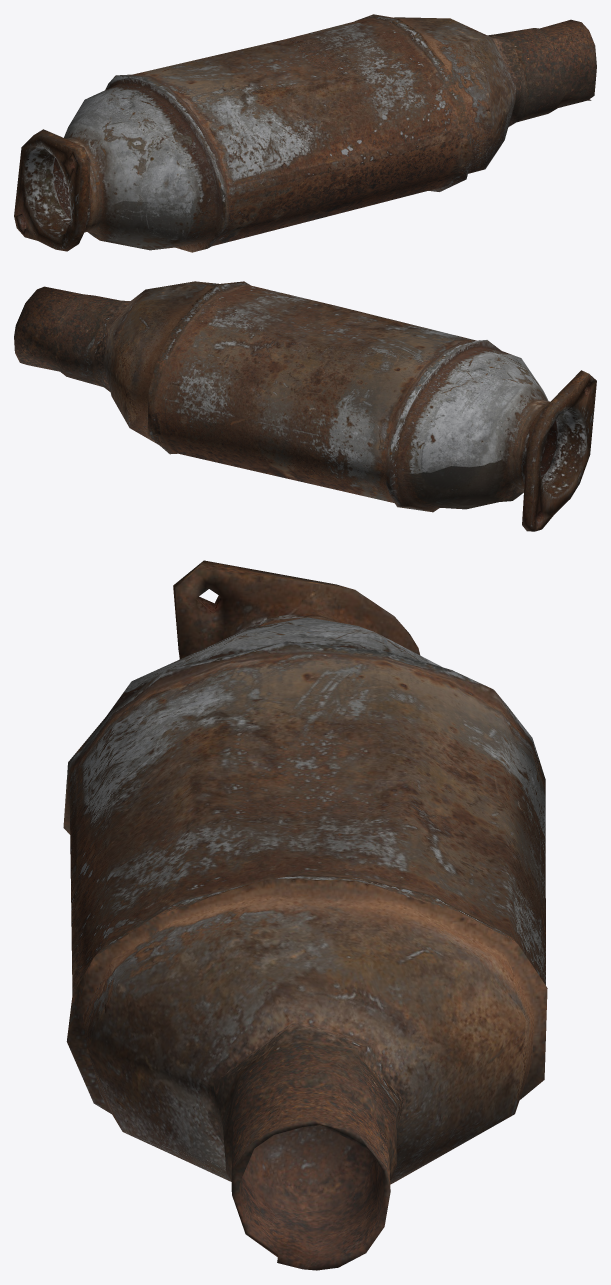
The model's file is rusty_car_exhaust.glb.
3 views of the same model, one above another, from view 1: azimuth 30°, elevation 25°; view 2: azimuth 150°, elevation 25°; view 3: azimuth 270°, elevation 25° (orthographic). The views are drawn at different scales.
Parts seen in each view (by area): view 1: wcvoca1_LOD0_TIER3_000; view 2: wcvoca1_LOD0_TIER3_000; view 3: wcvoca1_LOD0_TIER3_000.
Boxes of the visible parts, x1=… form: wcvoca1_LOD0_TIER3_000: x1=14, y1=14, x2=596, y2=252; wcvoca1_LOD0_TIER3_000: x1=14, y1=281, x2=596, y2=531; wcvoca1_LOD0_TIER3_000: x1=63, y1=560, x2=547, y2=1270.
Size of the model in its own units: 0.424 by 0.1151 by 0.1678.
Materials: 1 (1 with a texture image).
